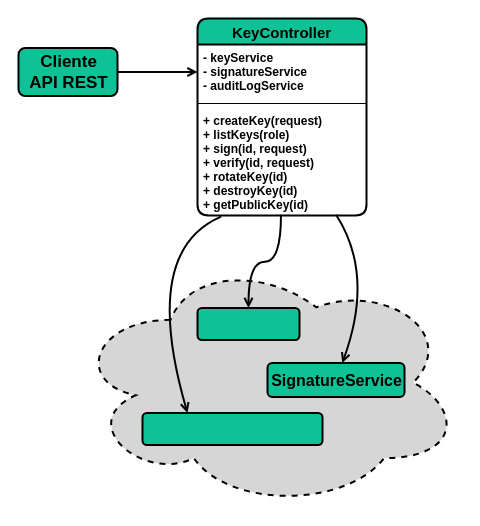
The diagram is 480 pixels wide and 526 high, and some of its shapes have lost their labels. The centre of each missing label's shape, as x and y in pixels:
"KeyEncryptionService" goes at (232,429).
"KeyService" goes at (248,323).
